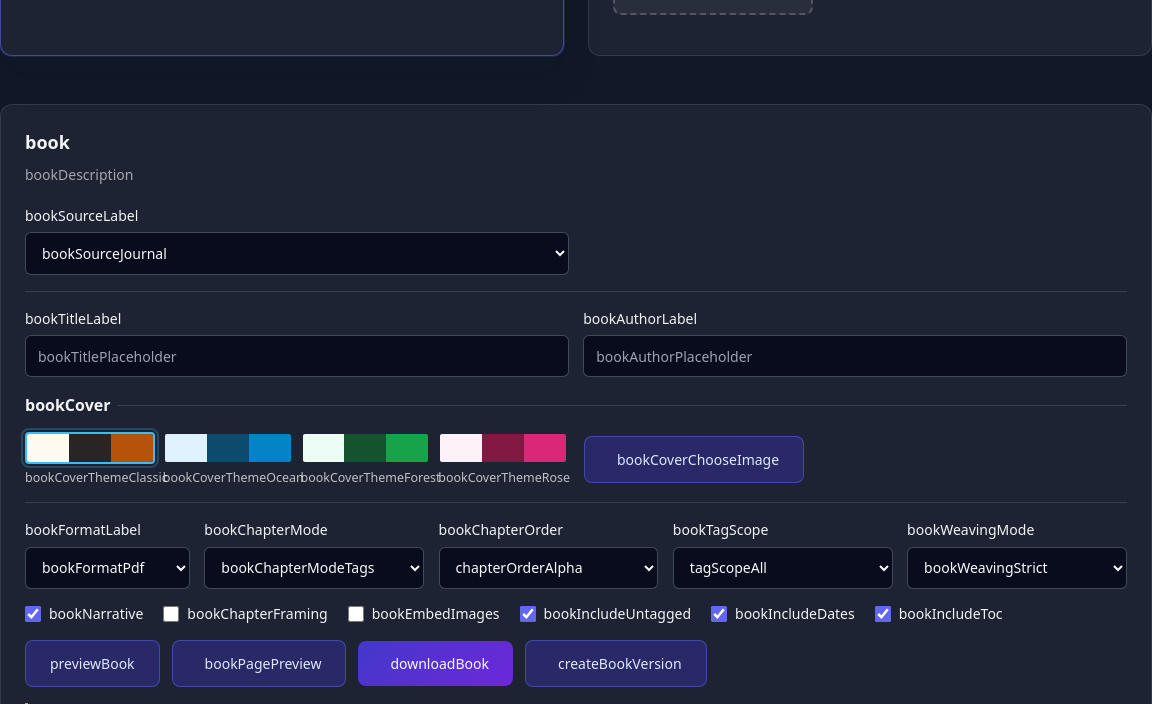
ImportExport book section › previews the book outline with the selected options
The image size is (1152, 704).
(page scrolled)
Check: the heading "book" is shown, box [25,130,70,154]
Type "My Year" into the field labelled "bookTitleLabel".
click(297, 356); type("My Year")  # box [25,335,569,377]
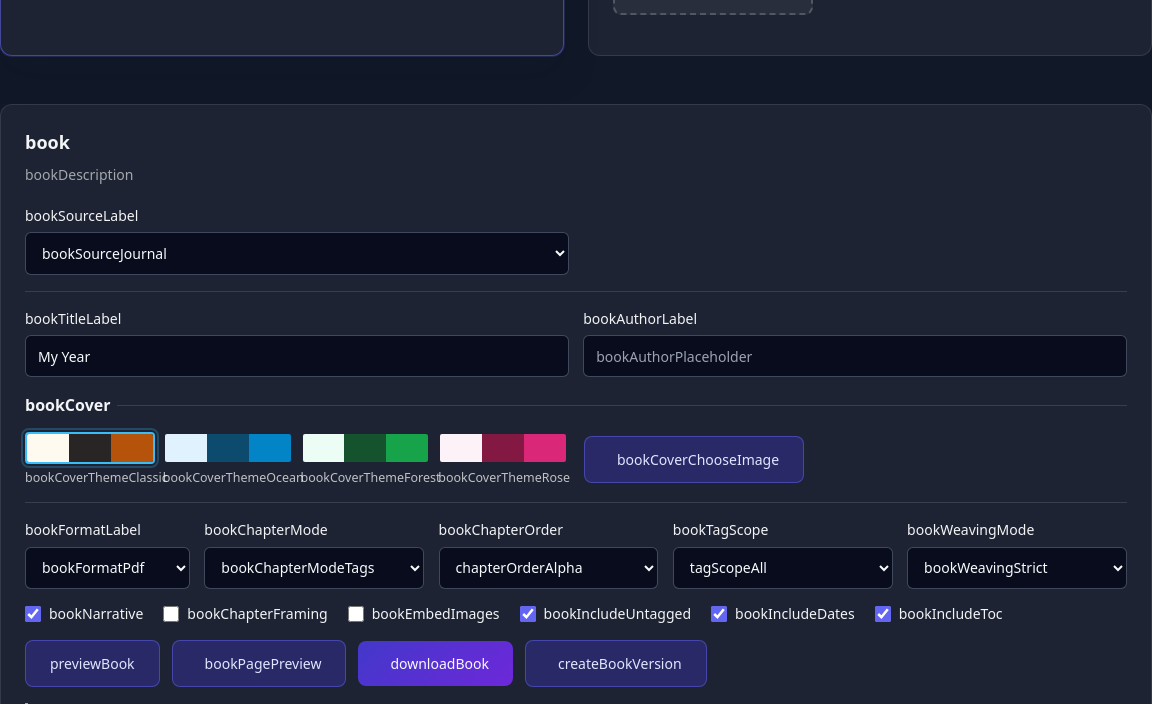
Select "chapterOrderEntries" in the dropdown labelled "bookChapterOrder" at (549, 568), box [439,547,658,589]
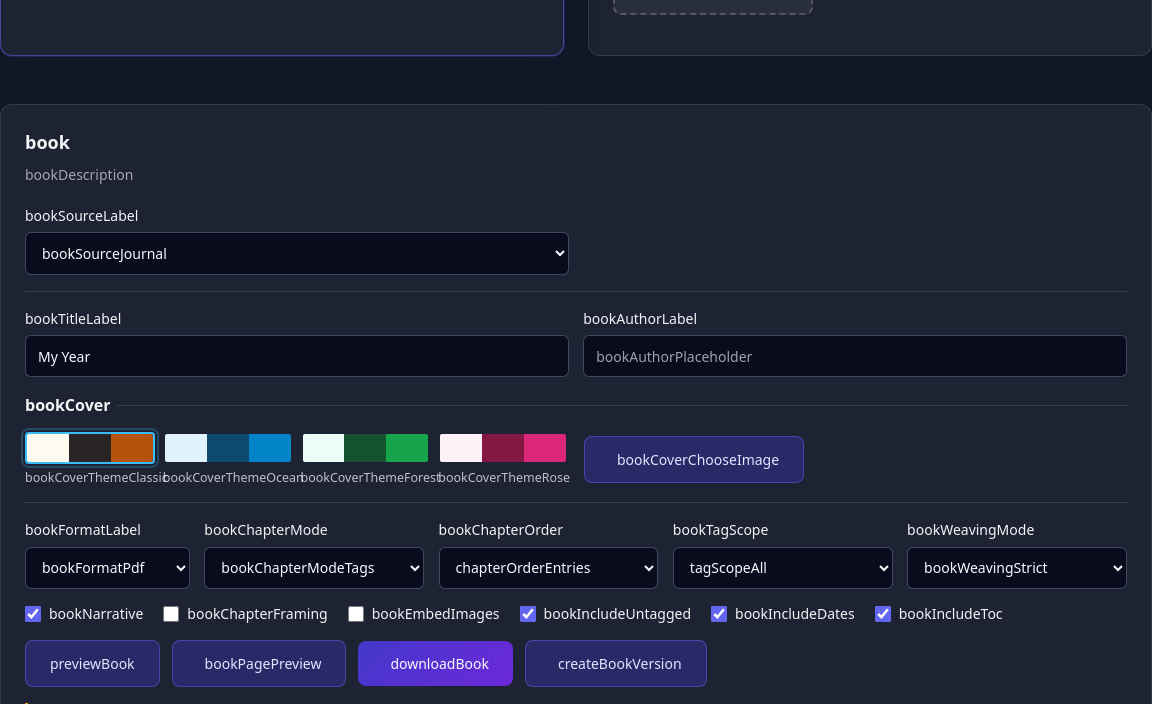
Click the button "previewBook".
click(92, 663)  # box [25,640,160,687]
(page scrolled)
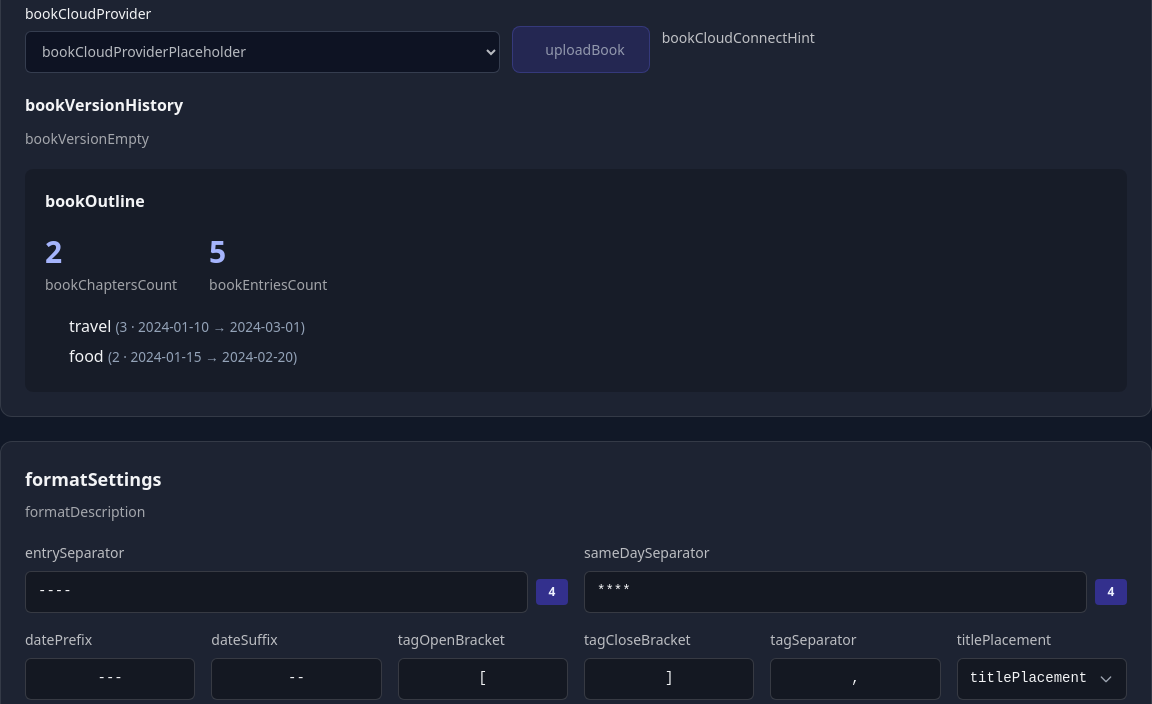
Check: the heading "bookOutline" is shown, box [45,190,145,212]
Check: the list item "travel" is shown, box [69,315,111,337]
Check: the list item "food" is shown, box [69,345,104,367]
